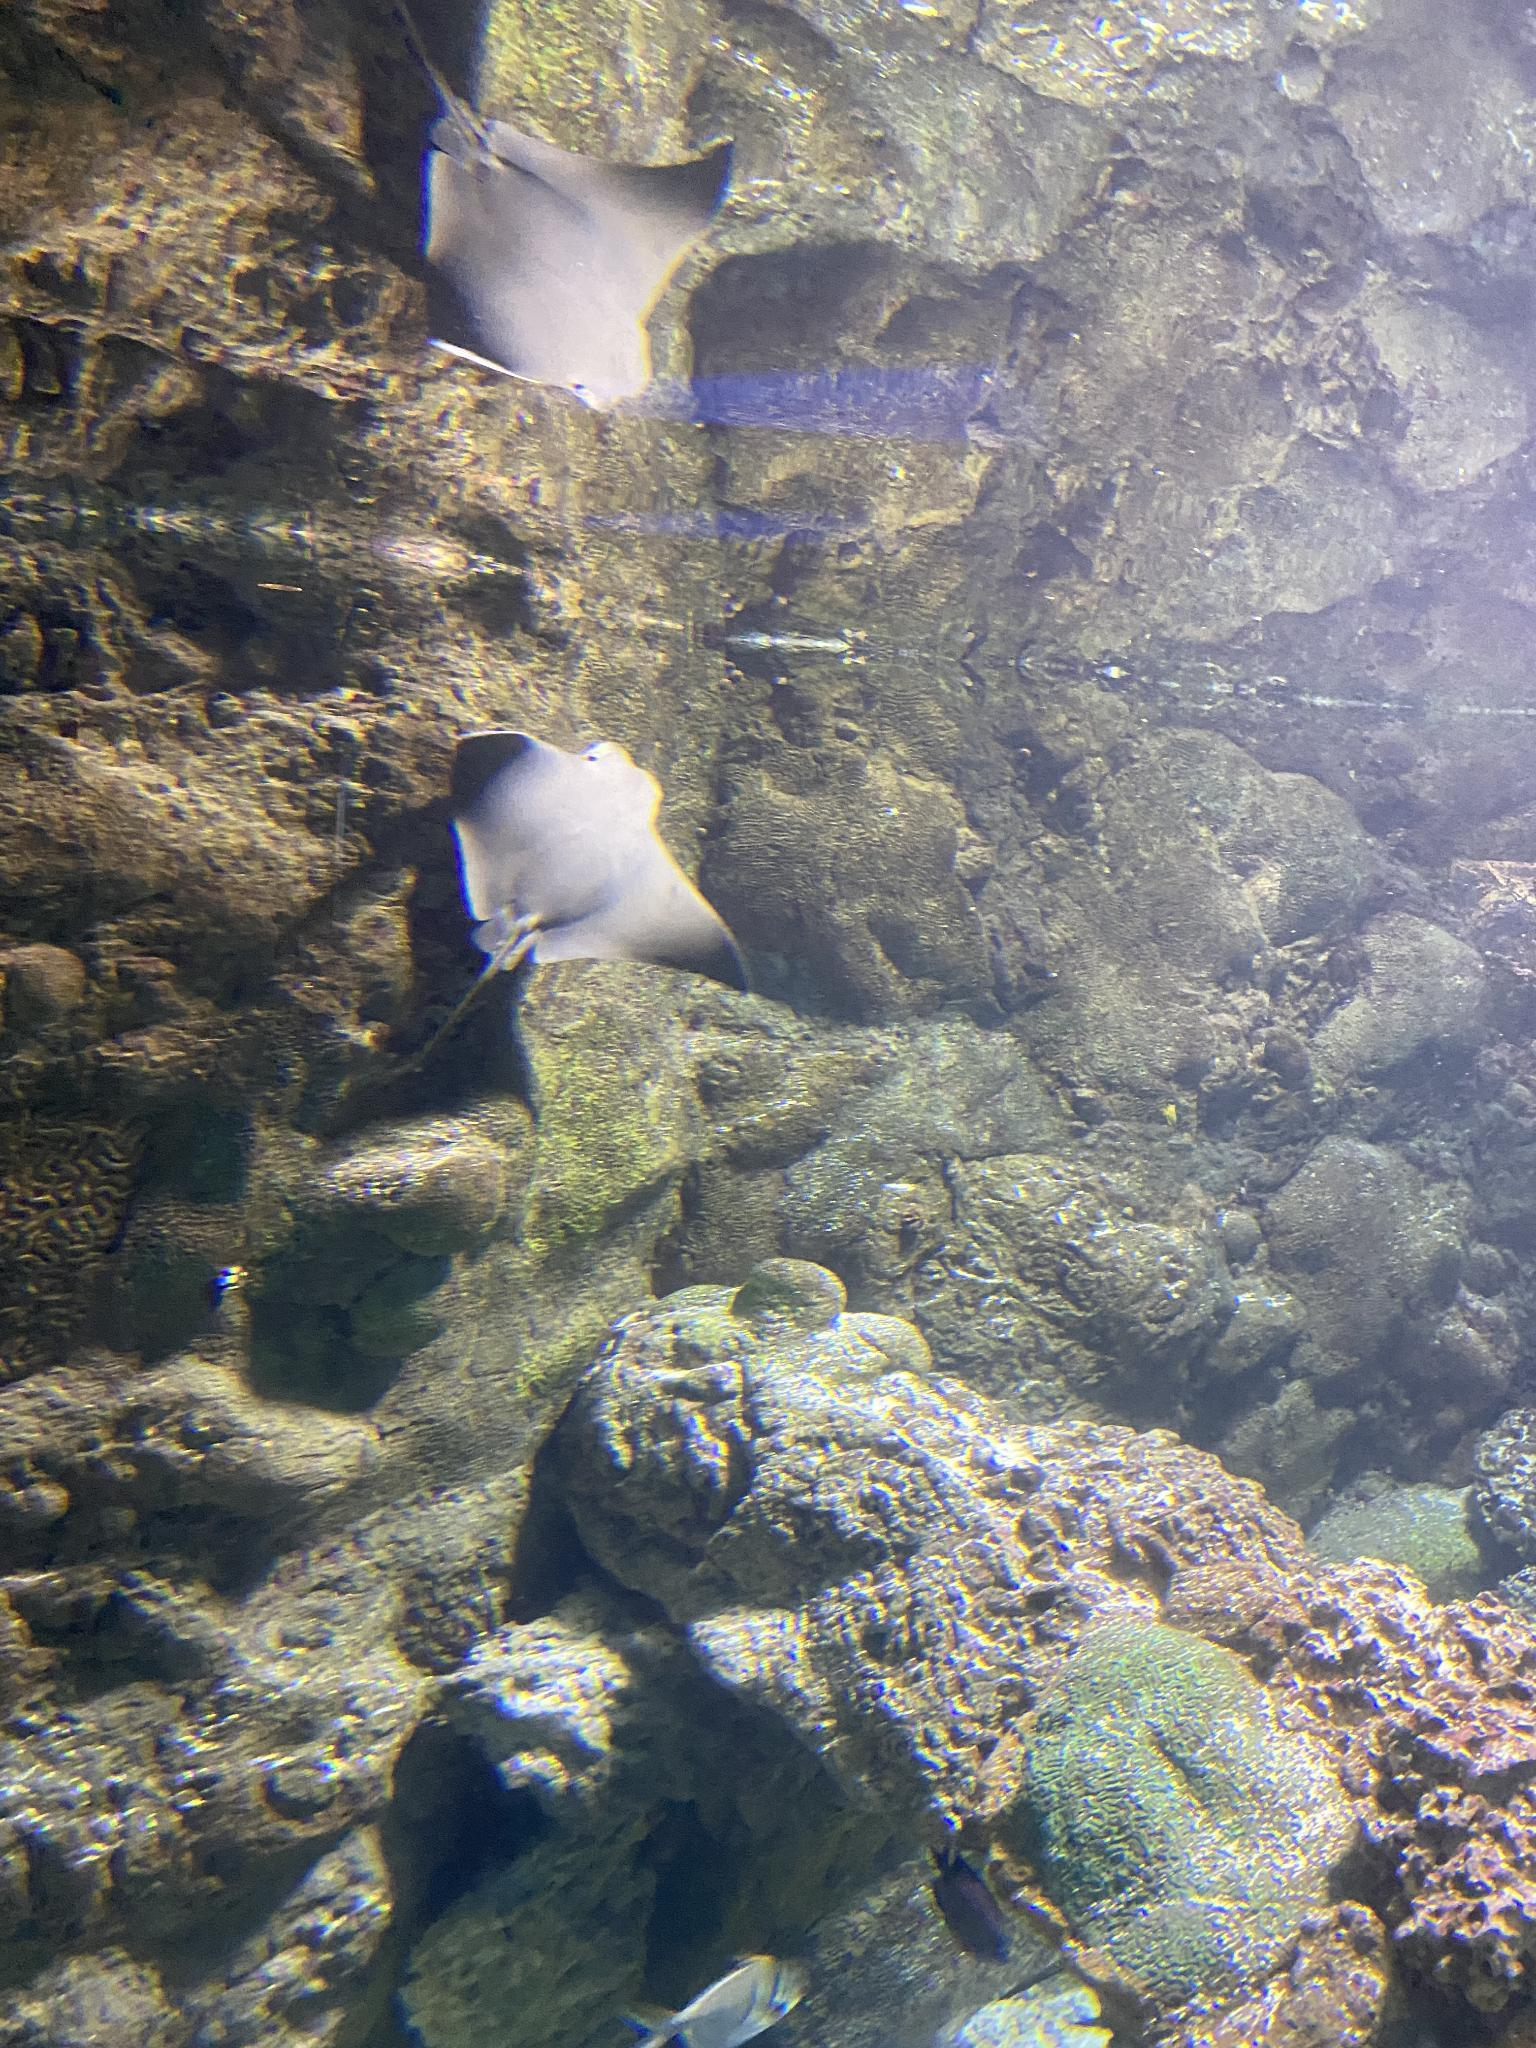fish: (624, 1954, 812, 2048), (925, 1842, 1018, 1967)
stingray: (423, 113, 734, 416), (452, 729, 750, 998)
